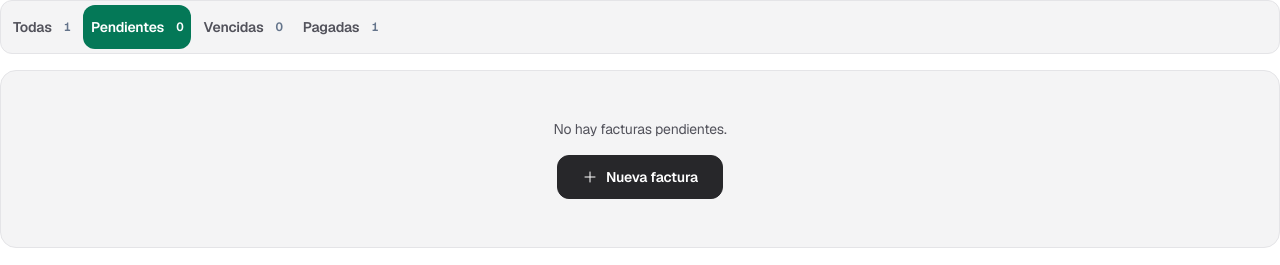
Scenario: InvoiceList › keeps the create prompt on Unpaid even when all bills are paid
Expected: the link "Nueva factura" is shown, [557,155,723,199]
Click the button "Pagadas 1": (341, 27) [295,5,387,49]
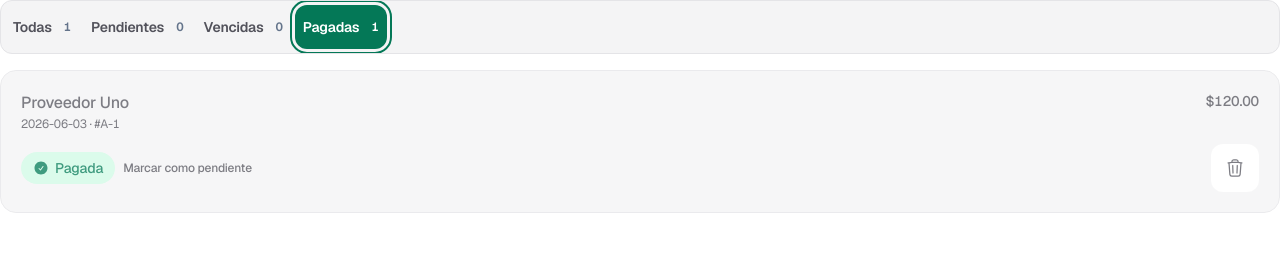
Expected: the text "Proveedor Uno" is shown, [21,91,129,116]
